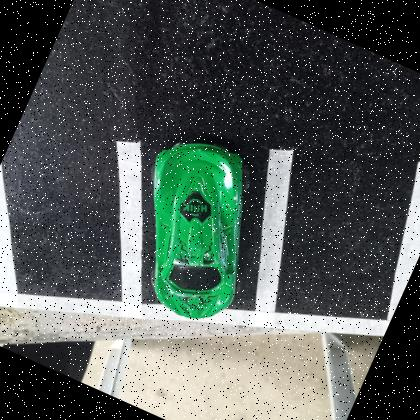Car: (152, 141, 245, 319)
